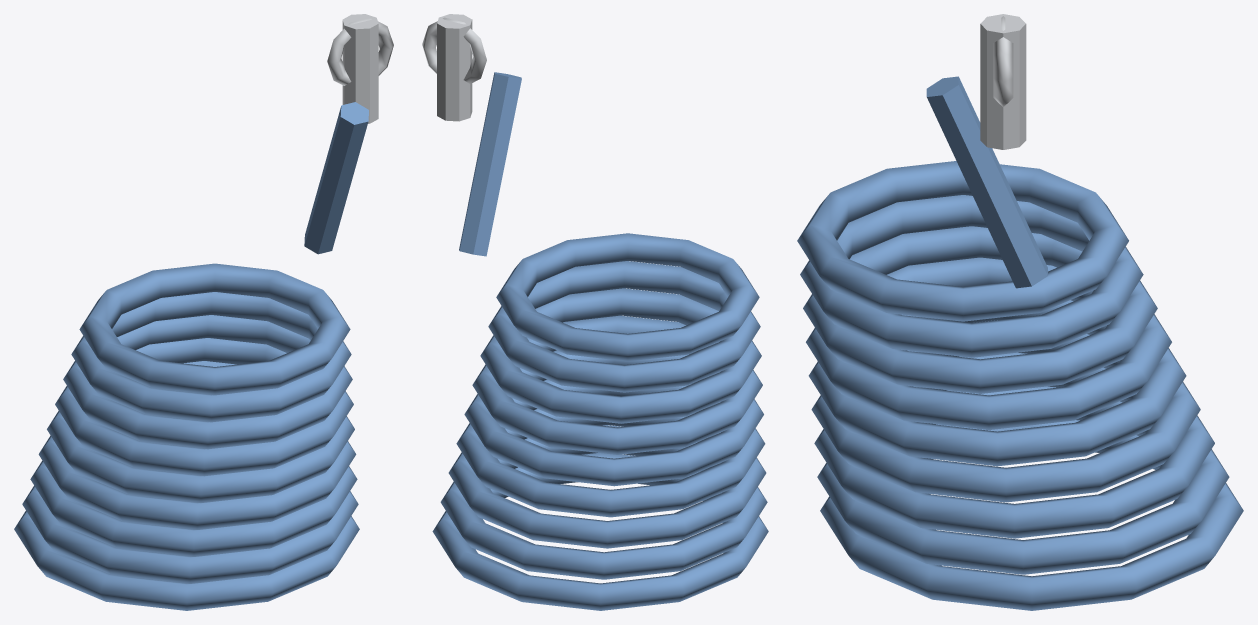
File: lead-rope-coiled.glb
3 views of the same model, side by side, from view 1: azimuth 30°, elevation 25°; view 2: azimuth 150°, elevation 25°; view 3: azimuth 270°, elevation 25° (orthographic). The views are drawn at different scales.
Visible parts, largest first — view 1: lead-rope-coiled; view 2: lead-rope-coiled; view 3: lead-rope-coiled.
Part boxes in pixels (box(x1,y1,x2,y2)): lead-rope-coiled: box(14, 14, 393, 610); lead-rope-coiled: box(422, 14, 768, 610); lead-rope-coiled: box(797, 14, 1243, 610).
Bounding box in the file's own units: 0.341 × 0.4637 × 0.312.
